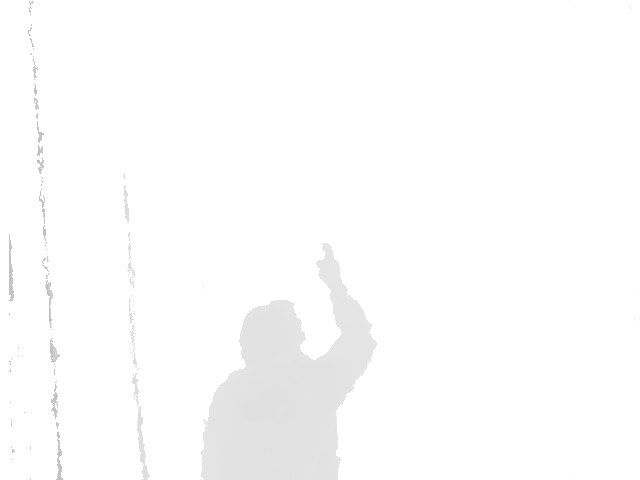hand: (312, 241, 348, 296)
head: (237, 296, 308, 373)
person: (194, 242, 378, 480)
